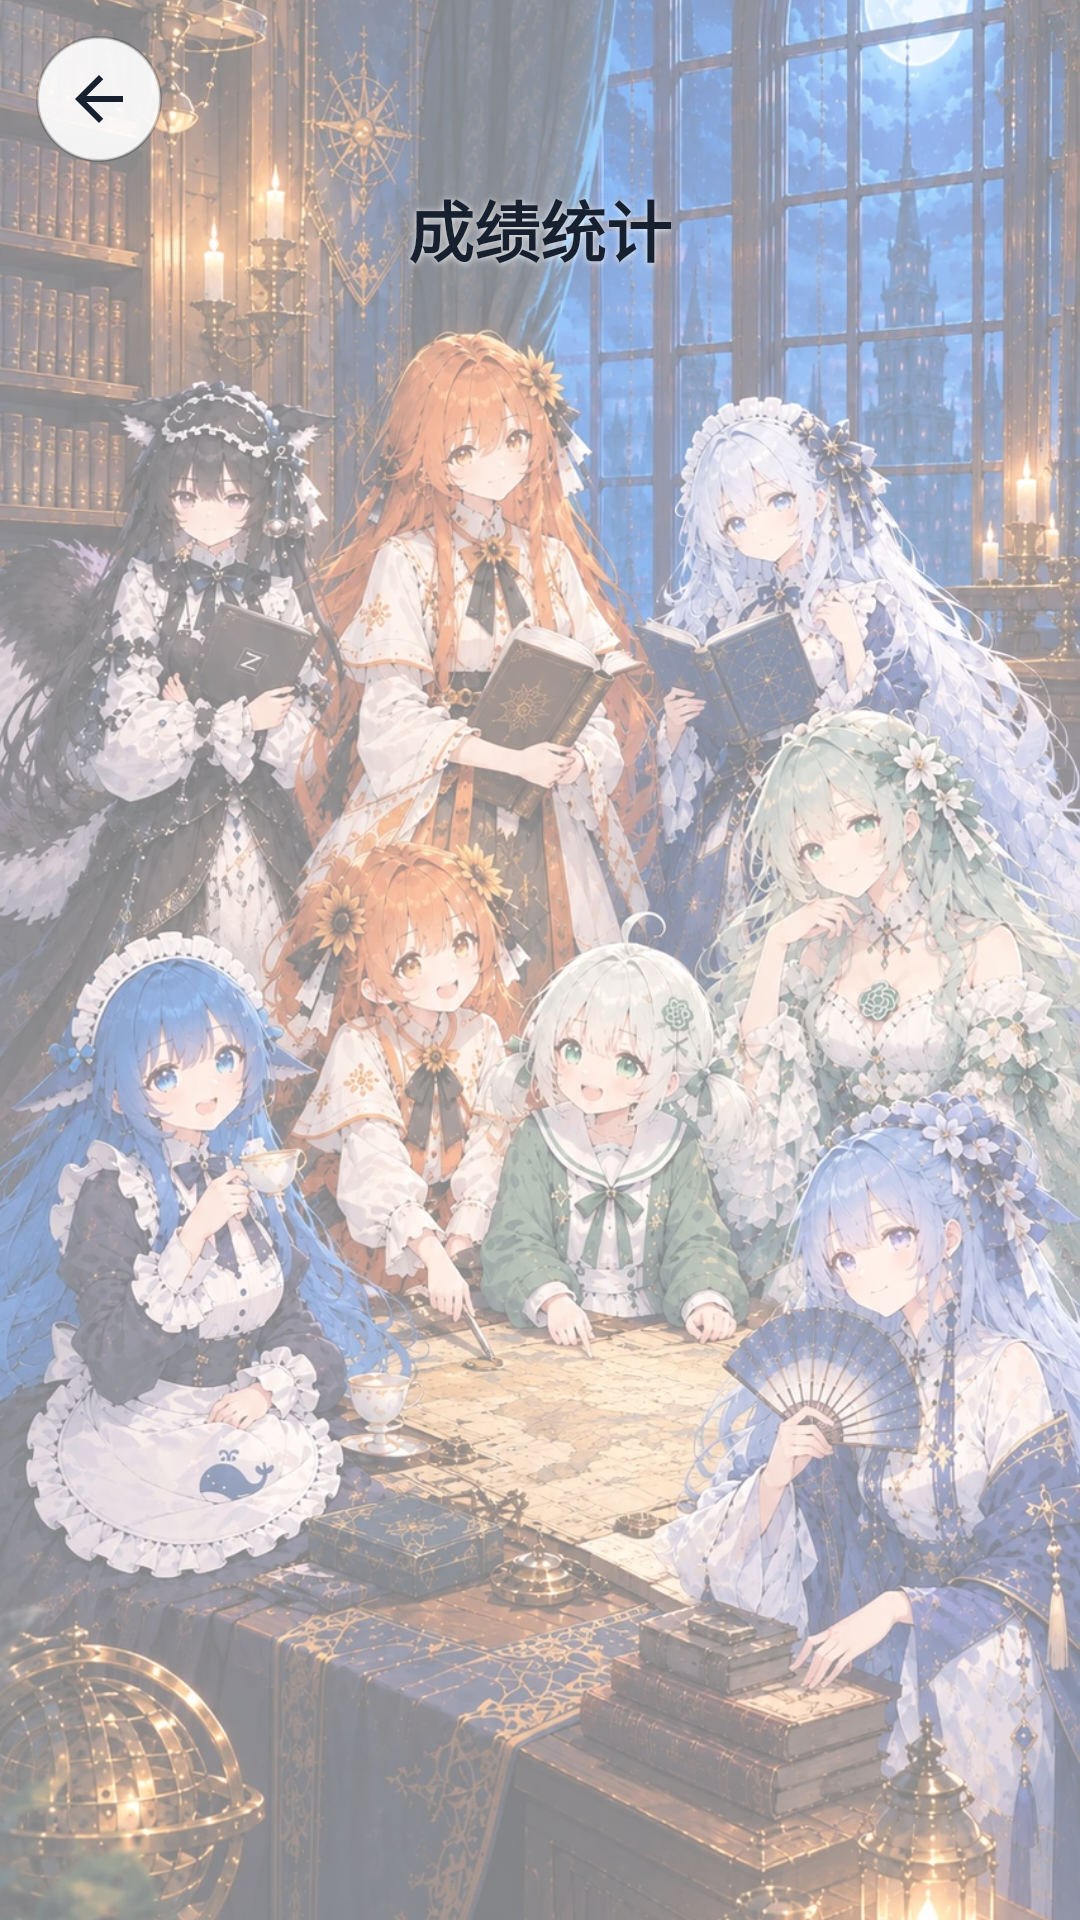

Screen size 1080*1920. Icon name, then its center in pixels as (x=x, y=y):
返回: (x=99, y=99)
